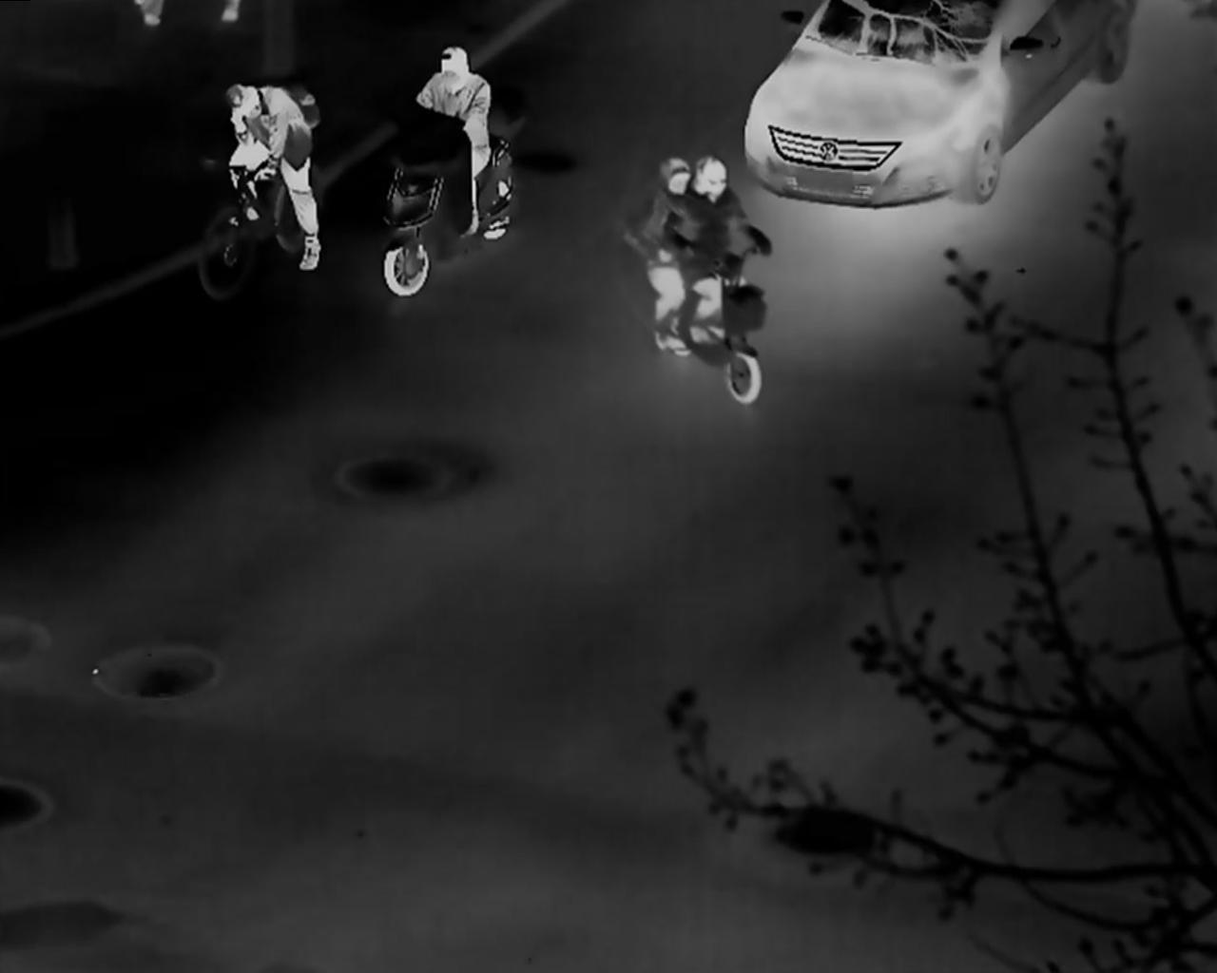person: (665, 156, 761, 357), (221, 80, 321, 270), (415, 44, 493, 239), (622, 158, 699, 355)
